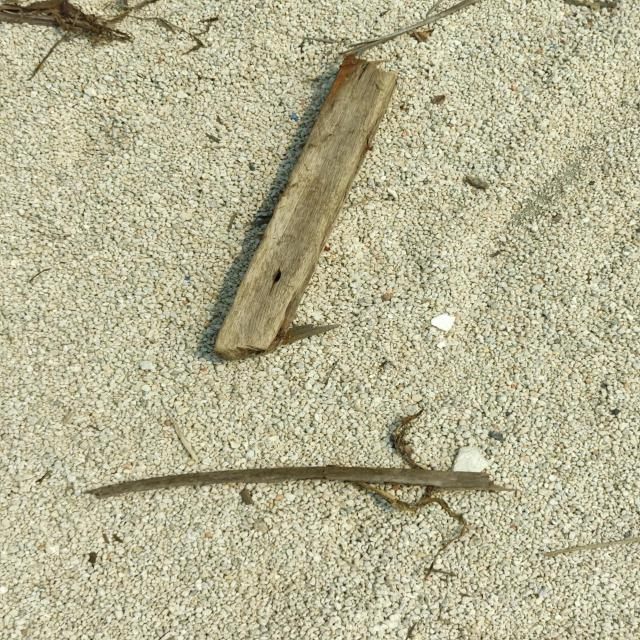litter: (211, 54, 400, 362)
